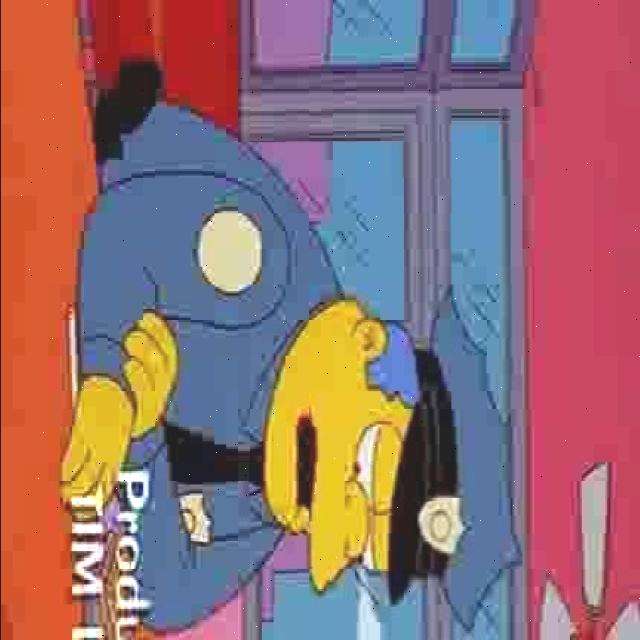Chief Wiggam: (256, 282, 520, 628)
